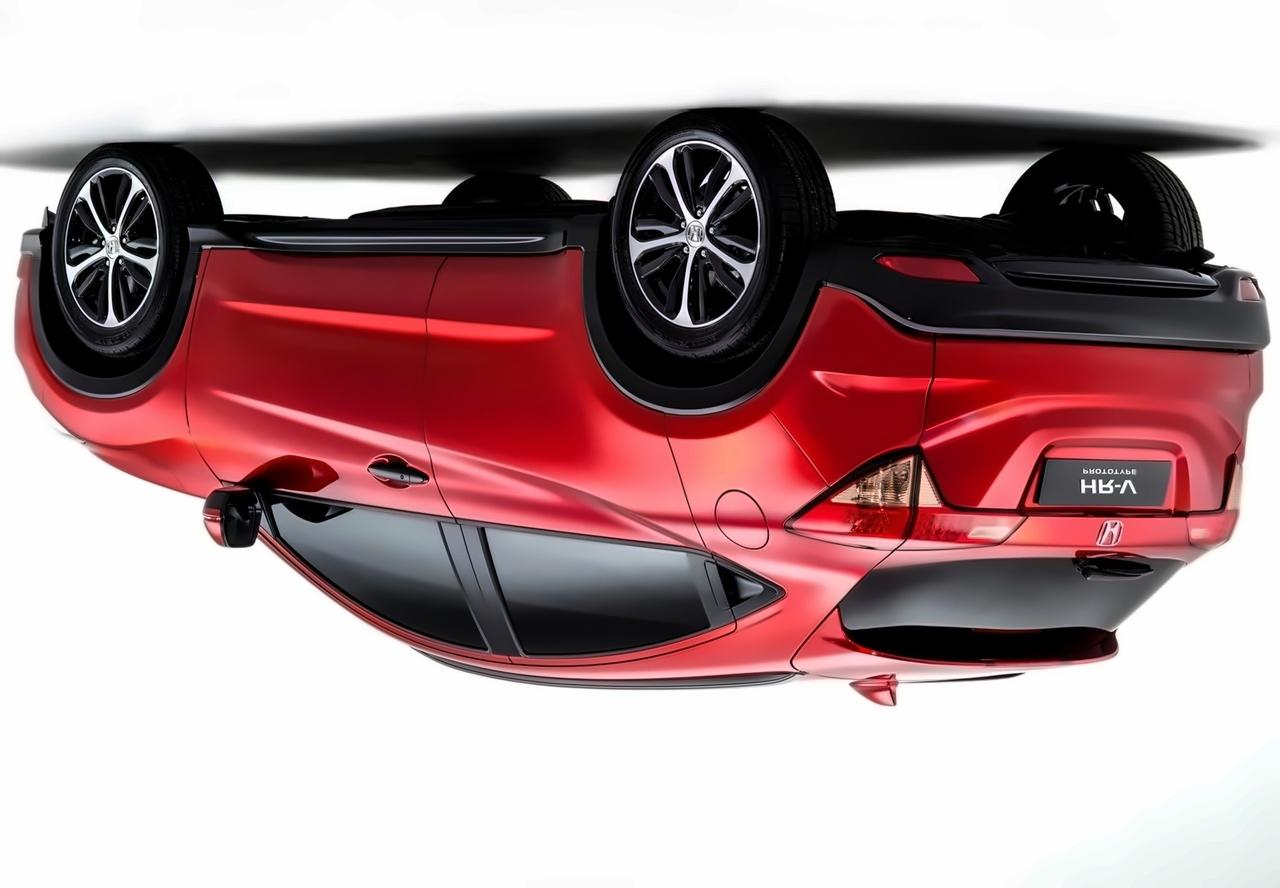Car boot: (798, 278, 1243, 675)
Driver-s door - -F-R-: (223, 248, 490, 686)
Fender - -F-R-: (57, 243, 220, 500)
Fender - -R-R-: (653, 380, 832, 607)
Front bumper: (7, 233, 60, 432)
Passenger-s door - -R-R-: (450, 250, 740, 693)
Rear bumper: (795, 215, 1273, 477)
Rear light - -L-: (1203, 435, 1271, 570)
Rear light - -R-: (770, 433, 959, 564)
Side bumper - -R-: (173, 205, 621, 280)
Side mirror - -R-: (193, 470, 289, 575)
